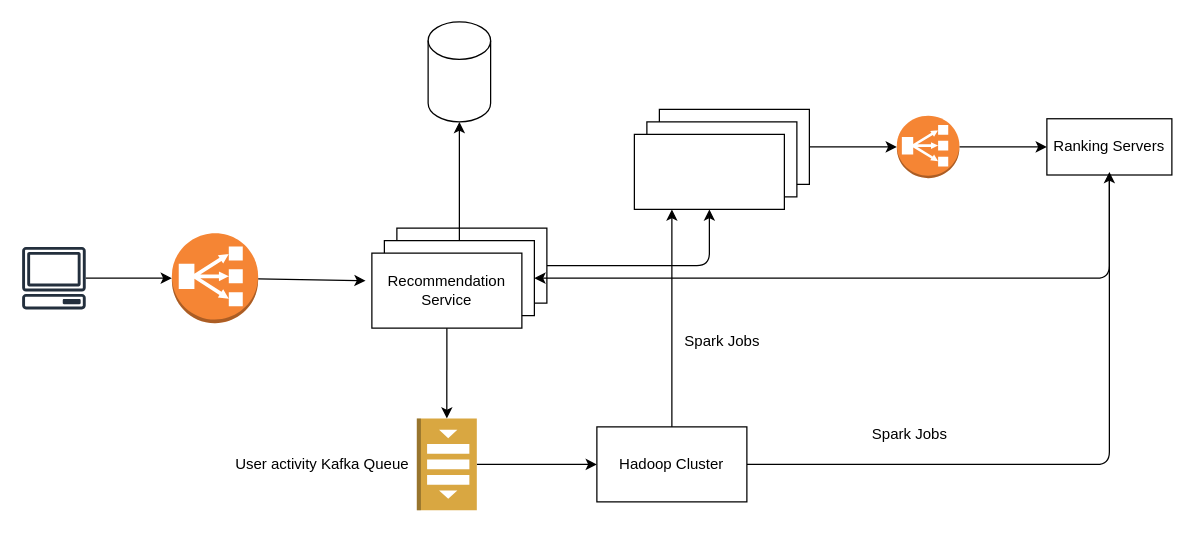
Some shapes in this 1194 by 533 pixel diagram are drawn without their labels. The centre of each missing label's shape, as x and y in pixels:
"Emebedding Model + Neighbour Index" belongs at [708,171].
"User DB" belongs at [459,71].
